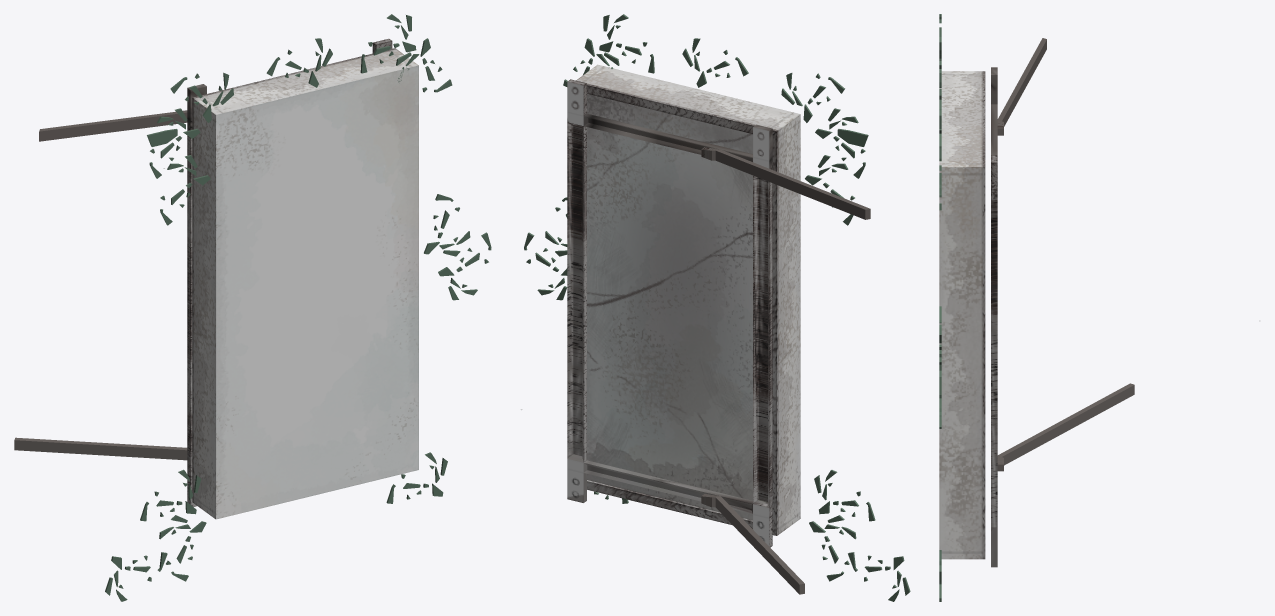
Rendered from tyuri.obj.
The picture shows the model from 3 angles, left to right: view 1: azimuth 30°, elevation 25°; view 2: azimuth 150°, elevation 25°; view 3: azimuth 270°, elevation 25°; orthographic projection. The views are drawn at different scales.
Parts seen in each view (by area): view 1: Plane, Plane.001; view 2: Plane, Plane.001; view 3: Plane, Plane.001.
Boxes of the visible parts, x1,y1,x2,y2 form: Plane: [14, 38, 418, 519]; Plane.001: [105, 14, 491, 601]; Plane: [567, 64, 870, 594]; Plane.001: [524, 14, 910, 601]; Plane: [939, 38, 1134, 567]; Plane.001: [939, 14, 941, 601].
Size of the model in its own units: 2.06 by 2.58 by 1.49.
